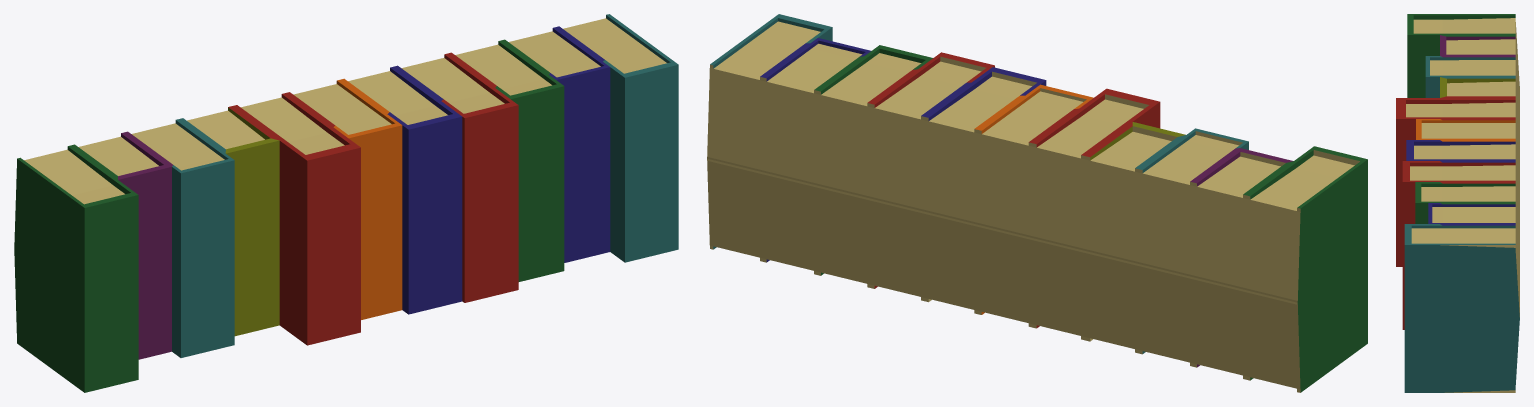
Rendered from Fur_Books_V3.fbx.
3 views of the same model, side by side, from view 1: azimuth 30°, elevation 25°; view 2: azimuth 150°, elevation 25°; view 3: azimuth 270°, elevation 25° (orthographic). The views are drawn at different scales.
Parts seen in each view (by area): view 1: Cube; view 2: Cube; view 3: Cube.
Boxes of the visible parts, x1=… form: Cube: x1=14, y1=14, x2=678, y2=392; Cube: x1=707, y1=14, x2=1367, y2=392; Cube: x1=1396, y1=14, x2=1519, y2=392.
Bounding box in the file's own units: 541 × 161 × 123.
